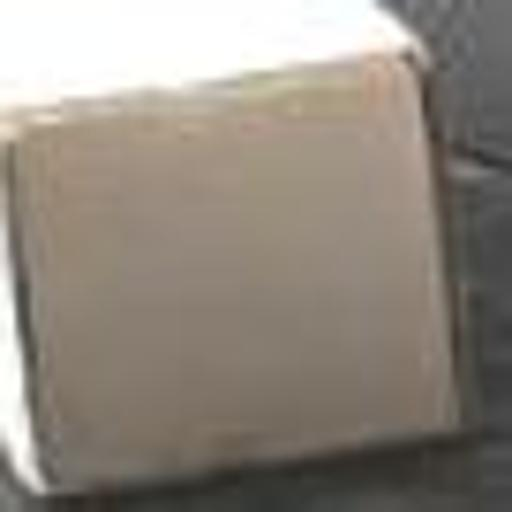Other: (0, 0, 469, 486)
